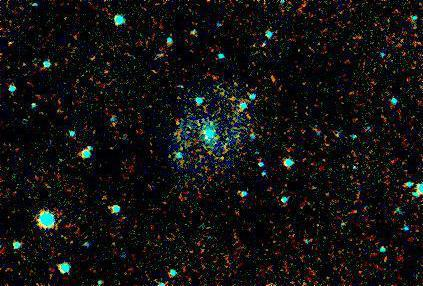star: (205, 151, 235, 181)
